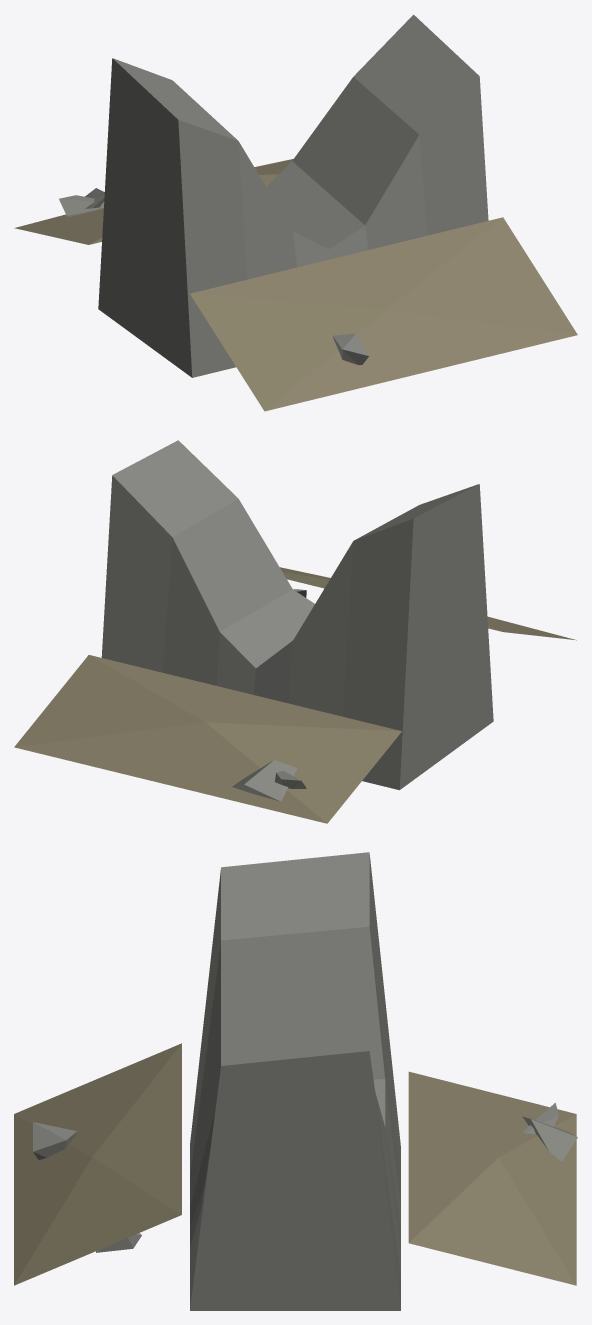
The model's file is FieldWallBroken.fbx.
3 views of the same model, one above another, from view 1: azimuth 30°, elevation 25°; view 2: azimuth 150°, elevation 25°; view 3: azimuth 270°, elevation 25° (orthographic). The views are drawn at different scales.
Parts seen in each view (by area): view 1: FieldWallBroken; view 2: FieldWallBroken; view 3: FieldWallBroken.
Boxes of the visible parts, bbox=[...] form: FieldWallBroken: bbox=[14, 14, 577, 411]; FieldWallBroken: bbox=[14, 440, 576, 823]; FieldWallBroken: bbox=[14, 852, 577, 1310].
Bounding box in the file's own units: 1.04 × 0.8289 × 1.44.
